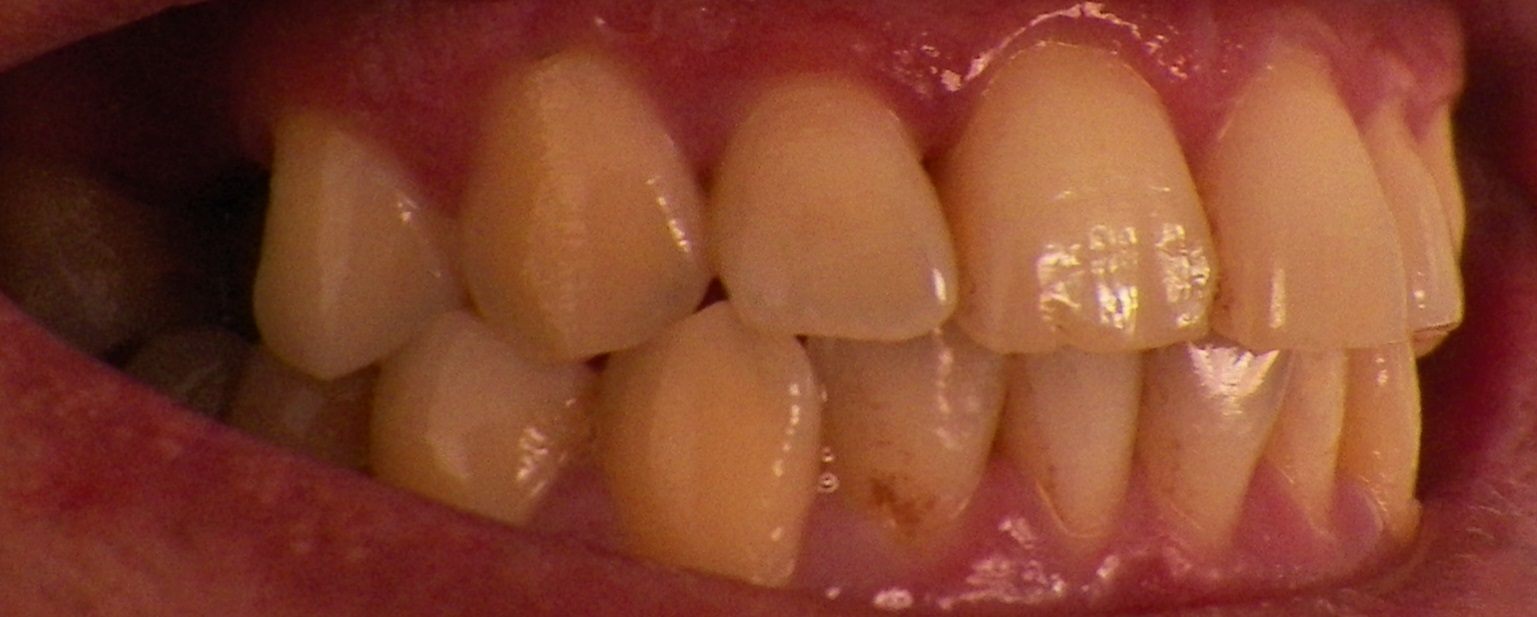boca: (32, 54, 1478, 582)
